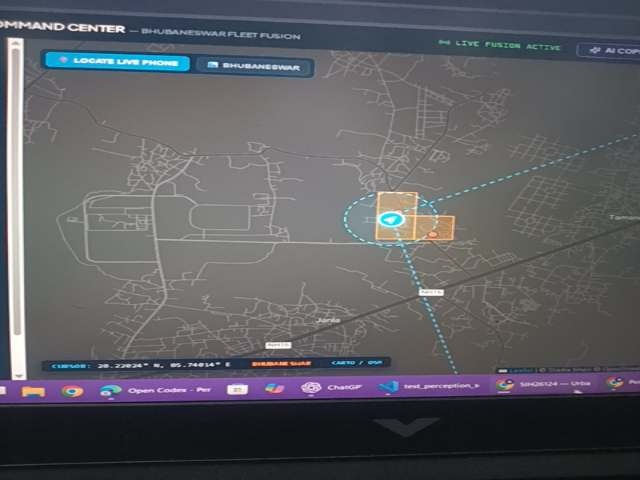pothole: (105, 404, 314, 480), (535, 405, 640, 480)
